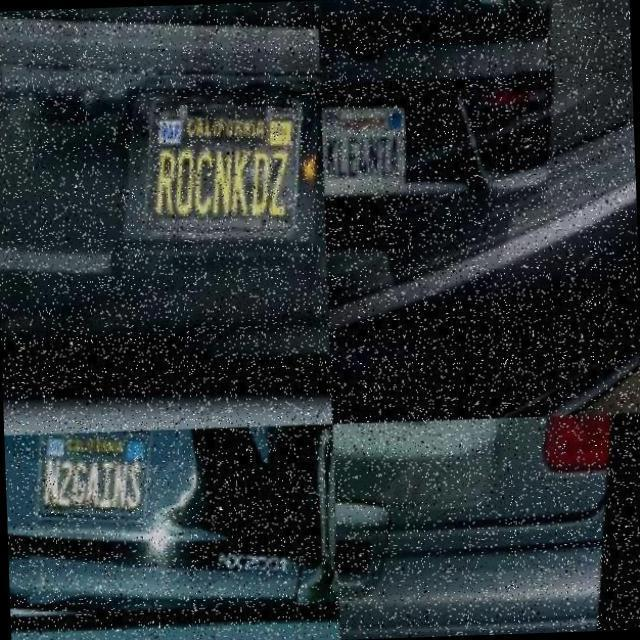License Plate: (140, 92, 310, 252), (332, 420, 452, 522), (35, 430, 157, 530), (324, 101, 405, 195)
